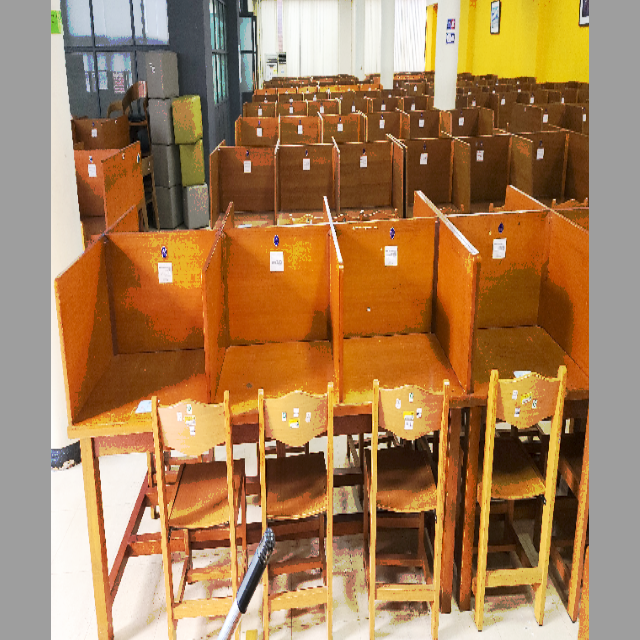empty: (59, 252, 204, 480), (345, 208, 470, 454), (208, 222, 339, 456)
